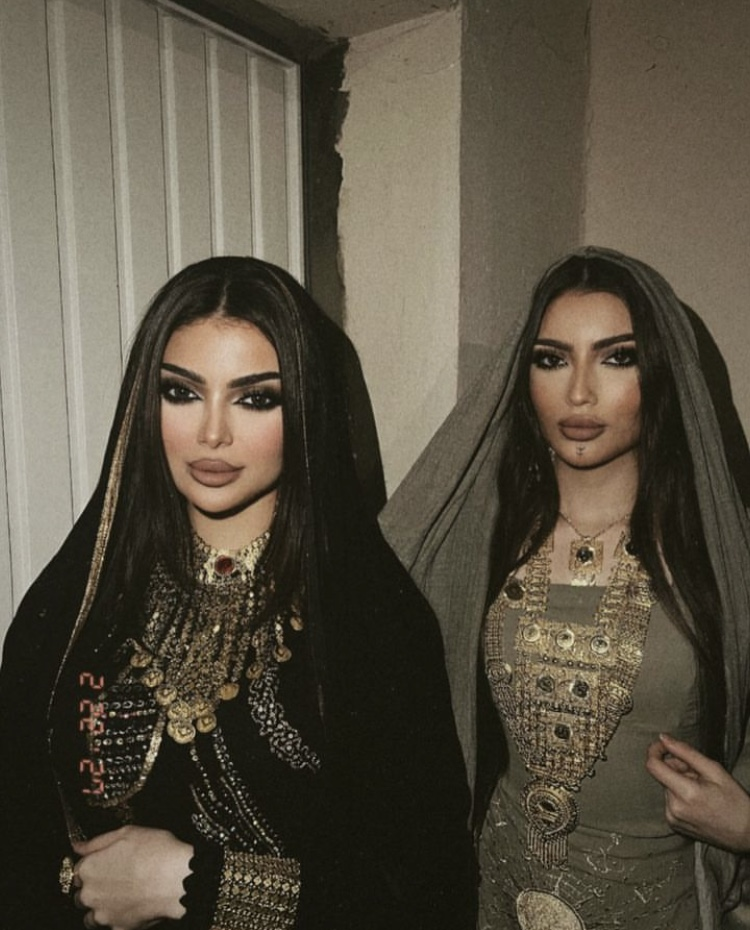Saudi_Founding_Day: (1, 250, 484, 930), (373, 243, 750, 928)
